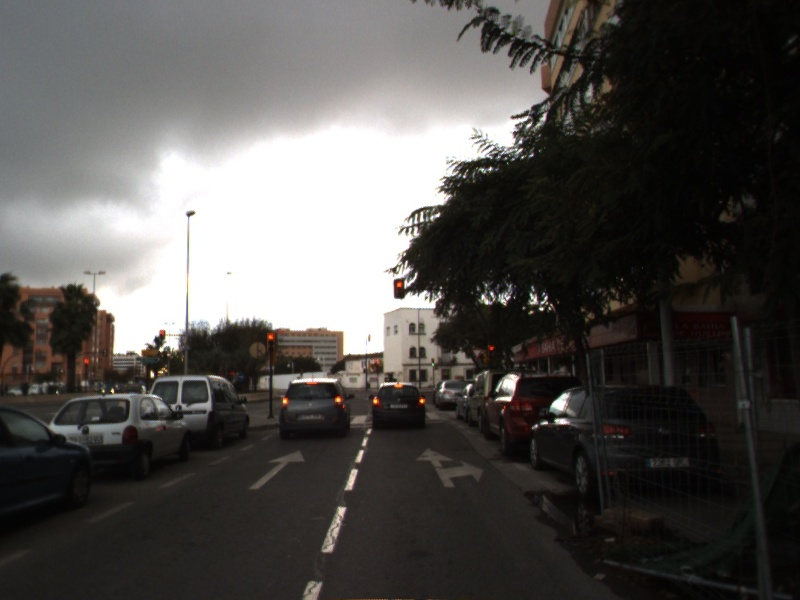STRAIGHT: (248, 448, 307, 491)
STRAIGHT_RIGHT: (414, 445, 485, 488)
